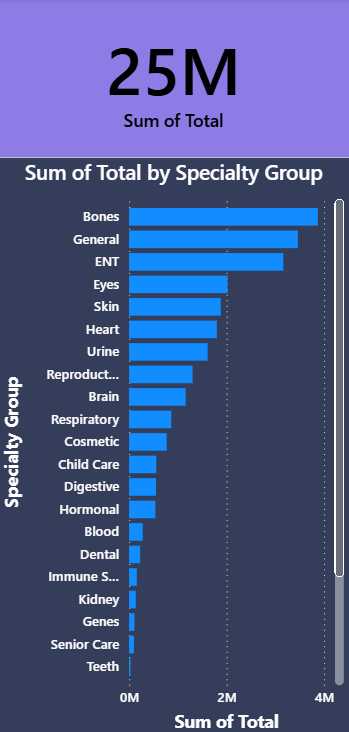

What the dashboard file says about the page in this screenshot:
{"tool":"powerbi","page":{"name":"DropDown","canvas":[320,670],"ordinal":1},"visuals":[{"type":"barChart","fields":{"Y":["Sum(All_Data.Total)"],"Category":["Mapping_Specialty.Specialty Group"]},"box":[0,144,320,528],"z":0},{"type":"card","fields":{"Values":["Sum(All_Data.Total)"]},"box":[0,0,320,144],"z":1}]}

Visuals, with their boxes in screenshot pixels (x1, y1, x2, y2), scaled from the page's 320x670 canvas onto the 349x732 screenshot:
barChart - Sum(All_Data.Total) x Mapping_Specialty.Specialty Group: [left=0, top=157, right=348, bottom=731]
card - Sum(All_Data.Total): [left=0, top=0, right=348, bottom=157]
